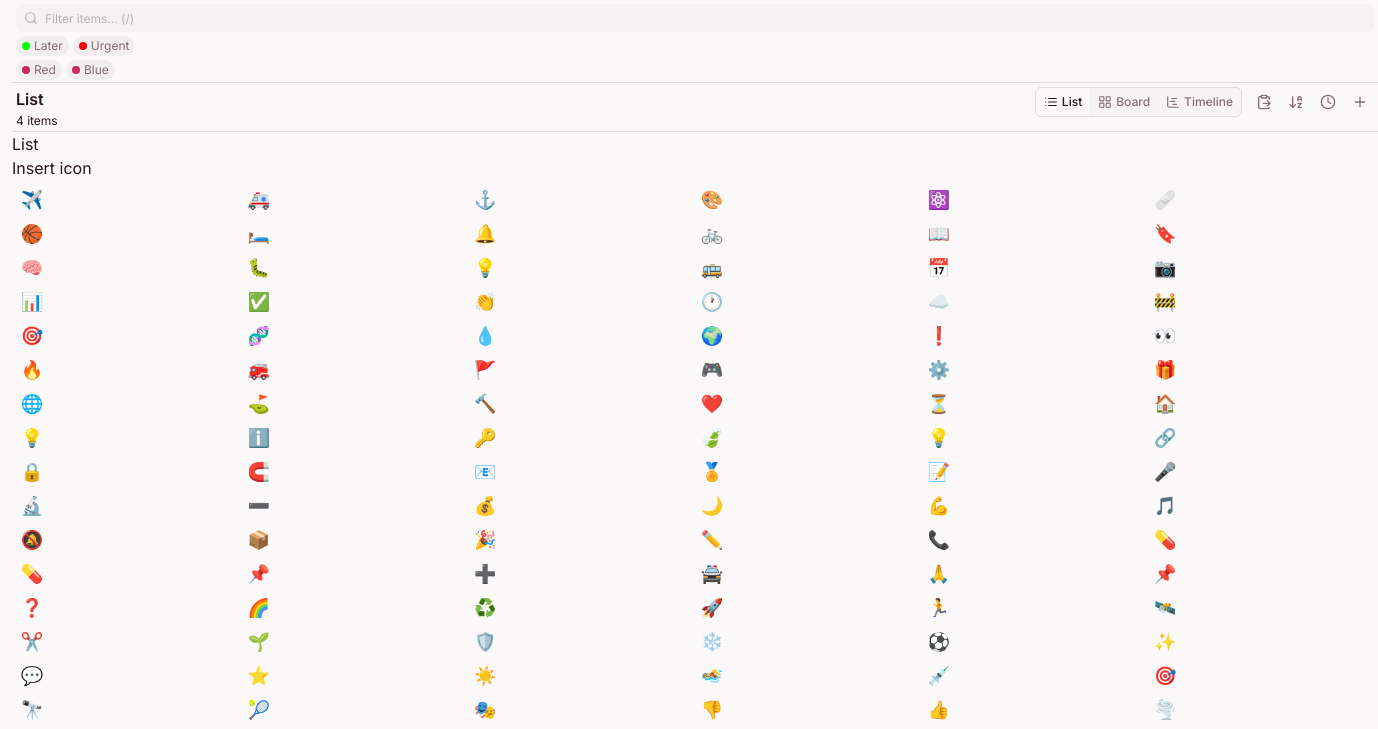
Test: the list panel › lists the items with a team chosen
This screenshot has width=1378, height=729.
Click the button "Red" at coordinates (39, 70), box [16, 60, 62, 80]
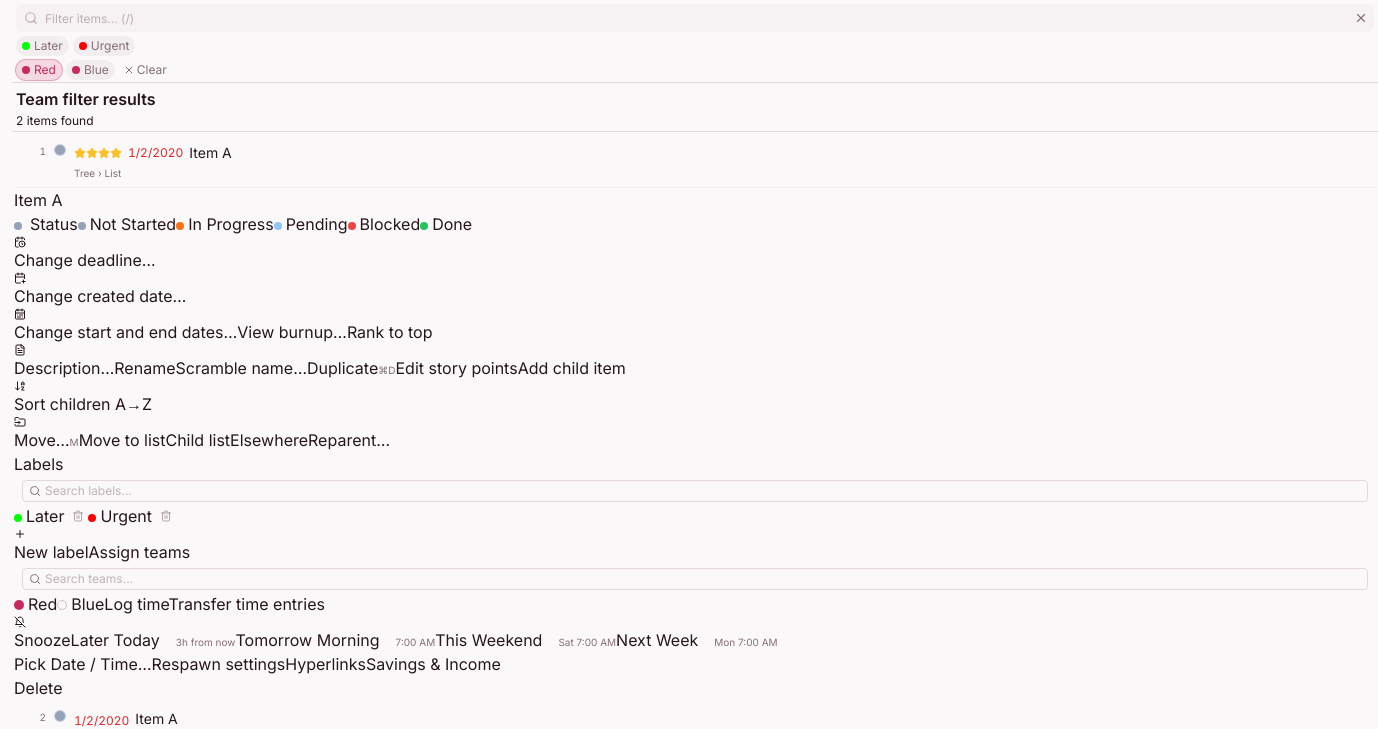
Result: the heading "Team filter results" is shown at [16, 89, 156, 109]
